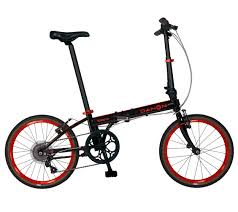bicycle: (2, 13, 237, 196)
